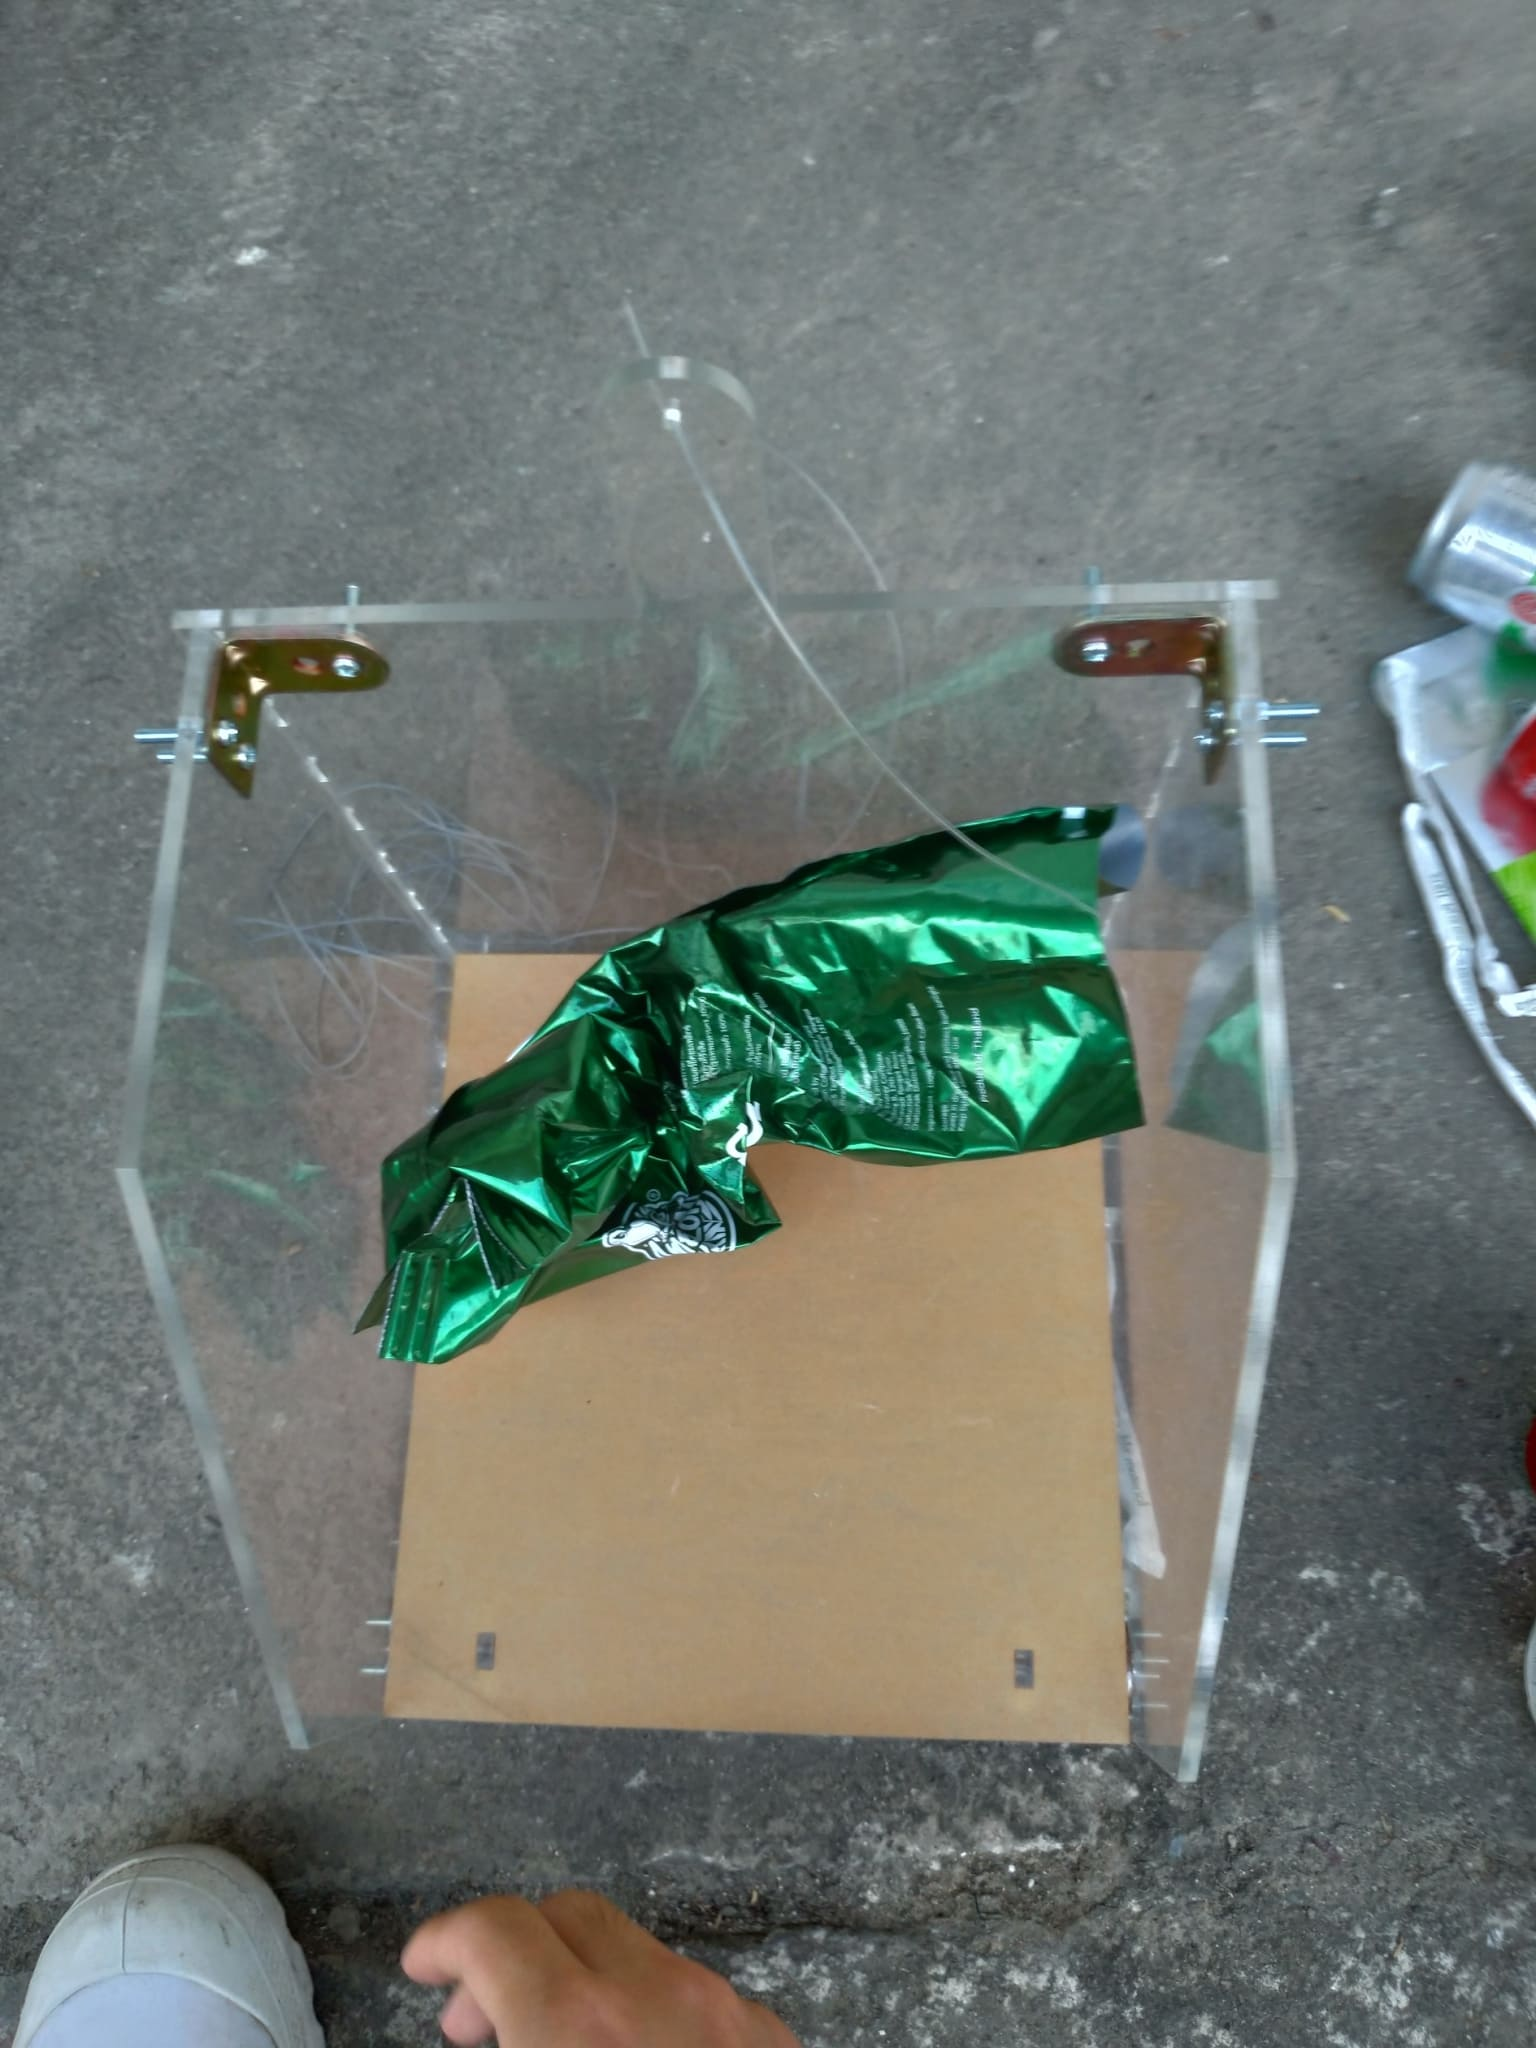AlCan: (1394, 456, 1536, 643)
Others: (369, 798, 1157, 1327)
